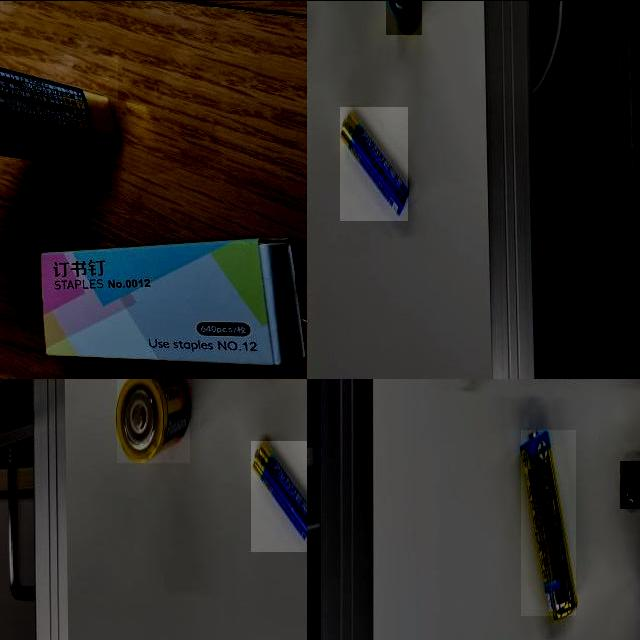9V: (0, 55, 118, 163)
